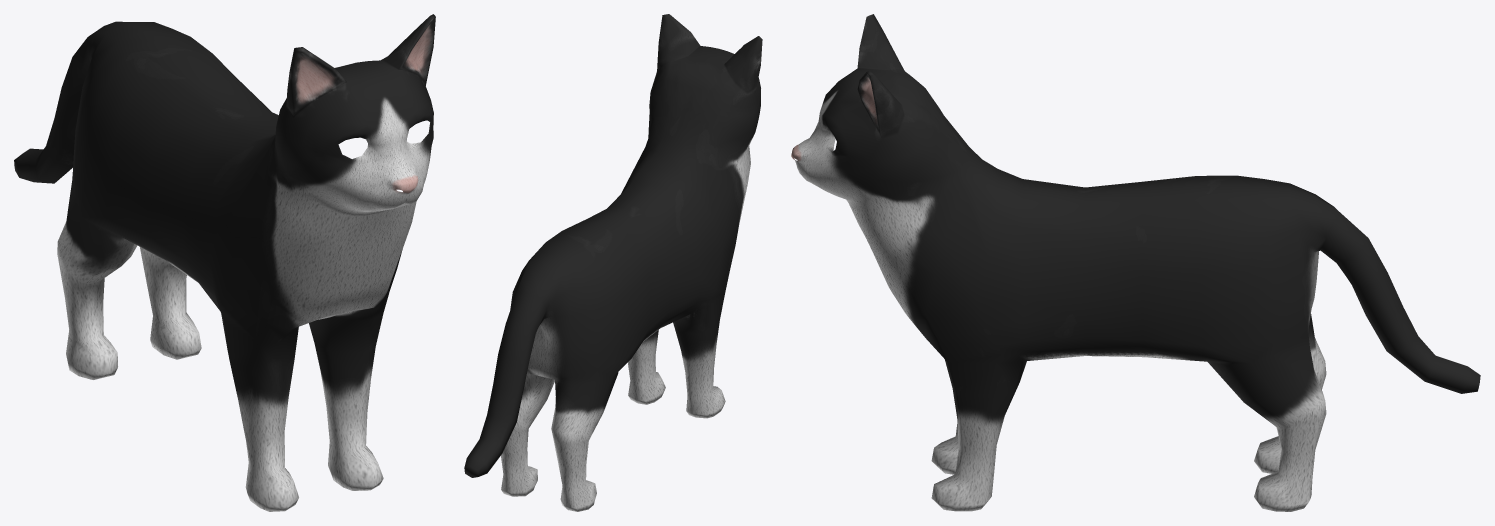
Rendered from cat_body_BW.glb.
3 views of the same model, side by side, from view 1: azimuth 30°, elevation 25°; view 2: azimuth 150°, elevation 25°; view 3: azimuth 270°, elevation 25° (orthographic). The views are drawn at different scales.
Visible parts, largest first — view 1: body cat_geo.001; view 2: body cat_geo.001; view 3: body cat_geo.001.
Boxes of the visible parts, left/top/right/bottom form: body cat_geo.001: left=14, top=14, right=435, bottom=511; body cat_geo.001: left=464, top=14, right=762, bottom=511; body cat_geo.001: left=791, top=14, right=1480, bottom=511.
Bounding box in the file's own units: 1572 × 5053 × 7130.
1 material, 1 textured.
